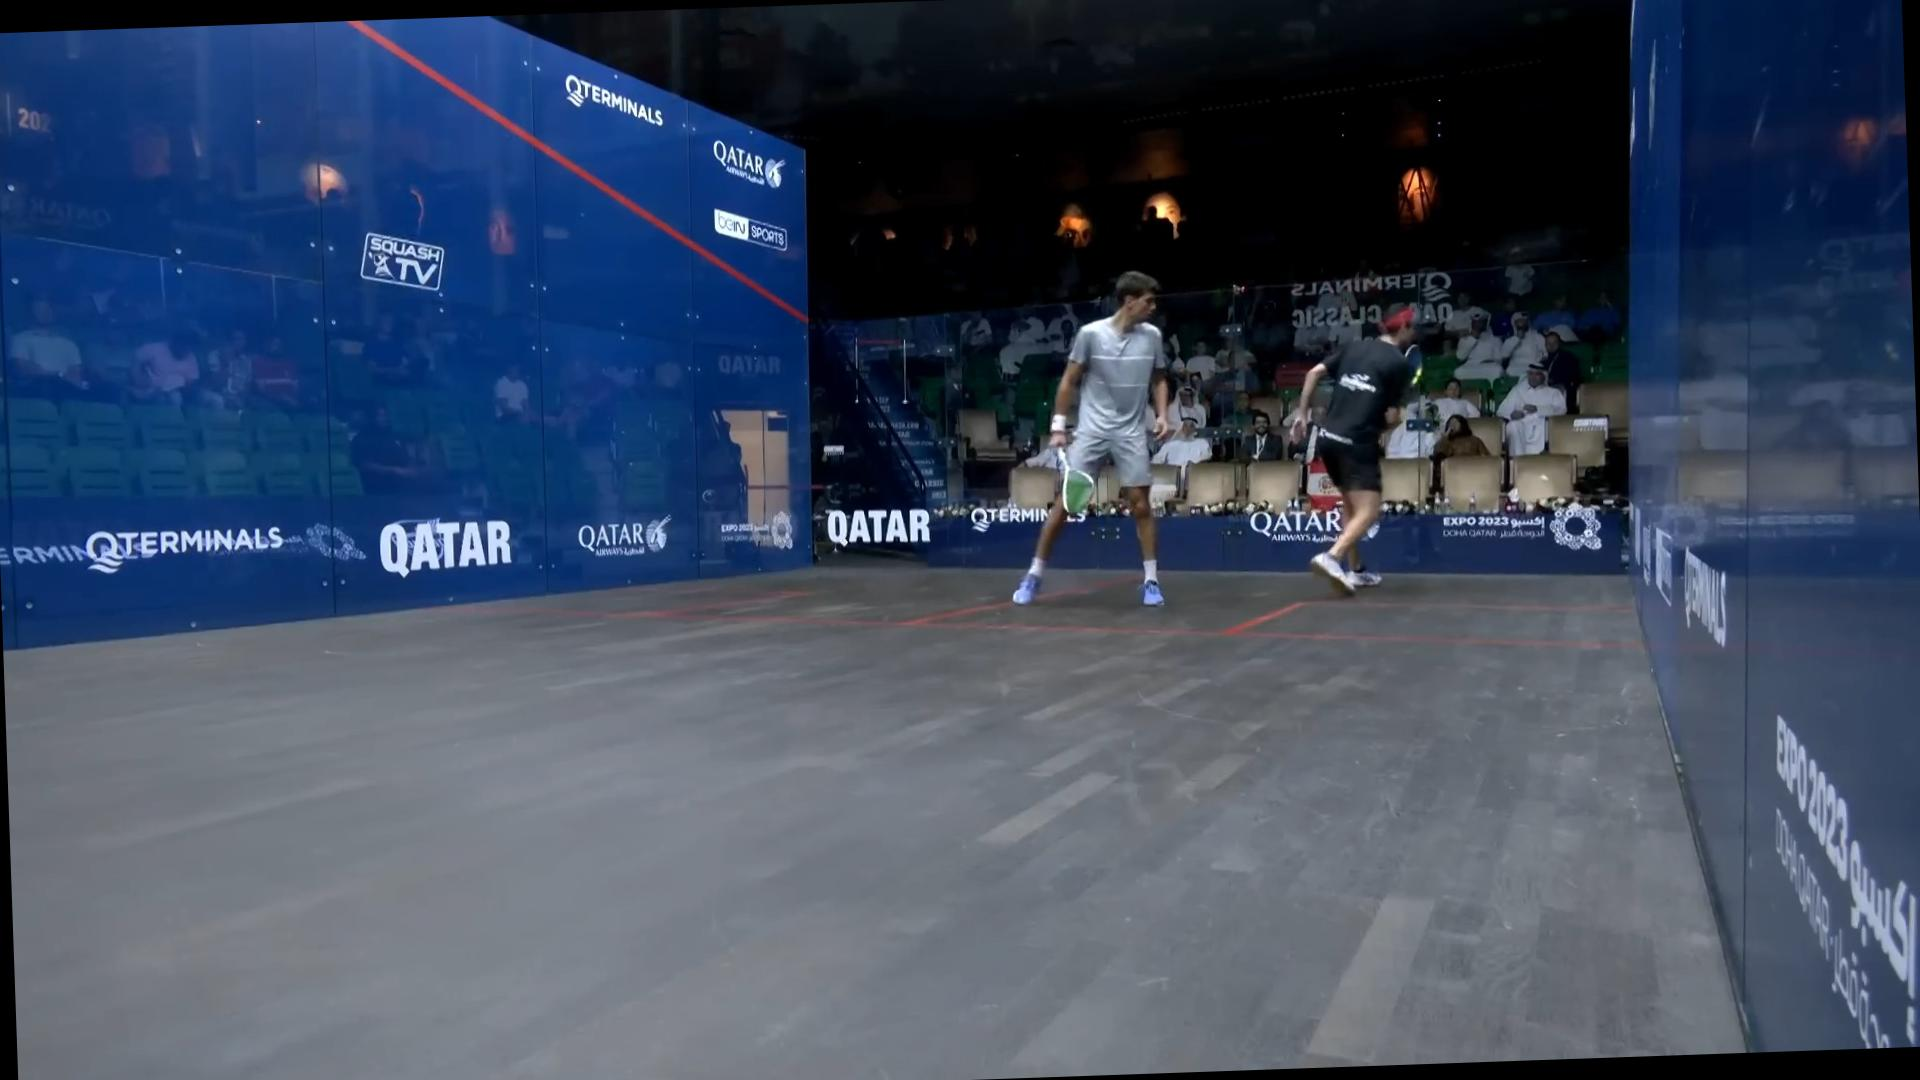Racket: (1058, 442, 1101, 517)
